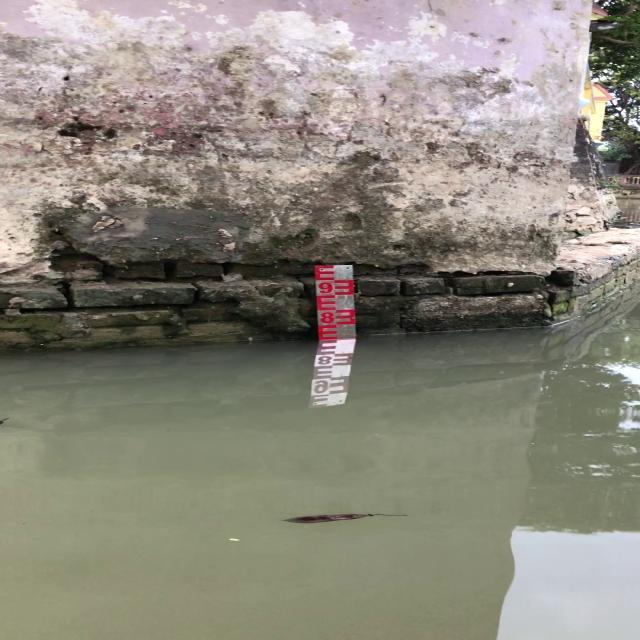ruler: (307, 256, 360, 344)
value: (315, 278, 337, 298), (315, 308, 338, 327)
